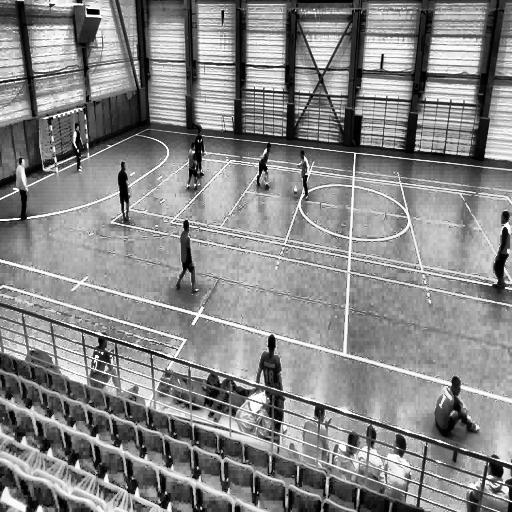ball: (293, 186, 298, 196)
player: (175, 218, 198, 294), (492, 210, 512, 296), (255, 141, 272, 191), (16, 156, 29, 219), (118, 160, 130, 224), (187, 140, 199, 191), (72, 123, 83, 173), (194, 129, 205, 179), (299, 150, 309, 200)
